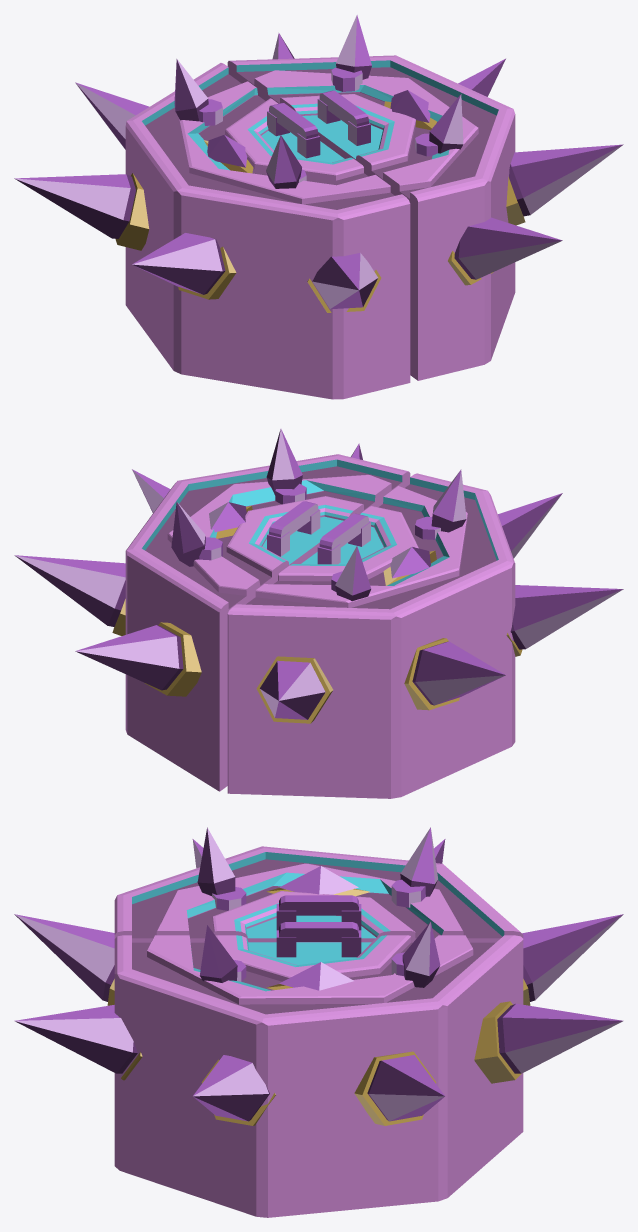
Rendered from amethyst_spike_door.fbx.
3 views of the same model, one above another, from view 1: azimuth 30°, elevation 25°; view 2: azimuth 150°, elevation 25°; view 3: azimuth 270°, elevation 25° (orthographic). The views are drawn at different scales.
Parts seen in each view (by area): view 1: amethyst_spike_door_panel_left, amethyst_spike_door_panel_right; view 2: amethyst_spike_door_panel_left, amethyst_spike_door_panel_right; view 3: amethyst_spike_door_panel_right, amethyst_spike_door_panel_left.
Boxes of the visible parts, bbox=[...] form: amethyst_spike_door_panel_left: bbox=[14, 59, 410, 399]; amethyst_spike_door_panel_right: bbox=[227, 15, 623, 380]; amethyst_spike_door_panel_left: bbox=[227, 469, 623, 798]; amethyst_spike_door_panel_right: bbox=[14, 428, 410, 791]; amethyst_spike_door_panel_right: bbox=[14, 922, 623, 1217]; amethyst_spike_door_panel_left: bbox=[14, 827, 623, 1005].
Size of the model in its own units: 5.64 by 2.6 by 5.64.
Materials: 1 (1 with a texture image).
